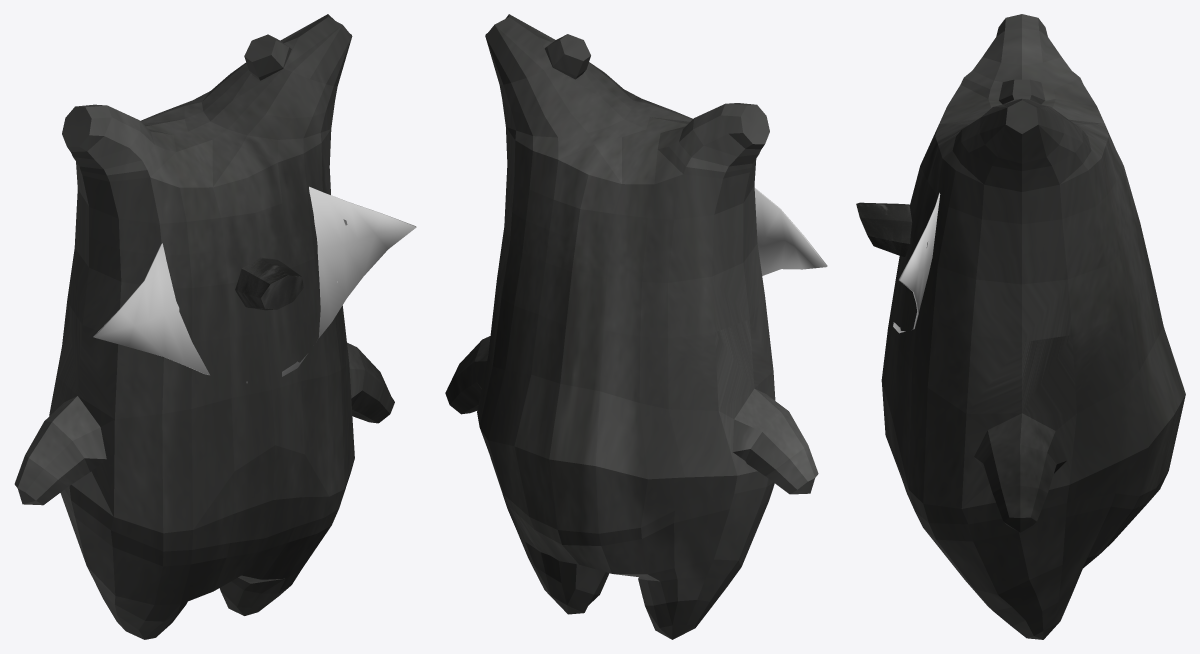
The model's file is frame_0016.obj.
3 renders of one model, left to right at view 1: azimuth 30°, elevation 25°; view 2: azimuth 150°, elevation 25°; view 3: azimuth 270°, elevation 25°, orthographic.
Visible parts, largest first — view 1: korok, leaf, nose; view 2: korok, leaf; view 3: korok, nose, leaf.
Part boxes in pixels (x1,y1,x2,y2): korok: (14,14,394,639); leaf: (93,186,416,383); nose: (235,257,303,310); korok: (445,14,818,639); leaf: (754,188,827,275); korok: (881,14,1185,639); nose: (856,202,912,256); leaf: (893,192,940,333).
Bounding box in the file's own units: 1.63 × 2.43 × 1.27.
